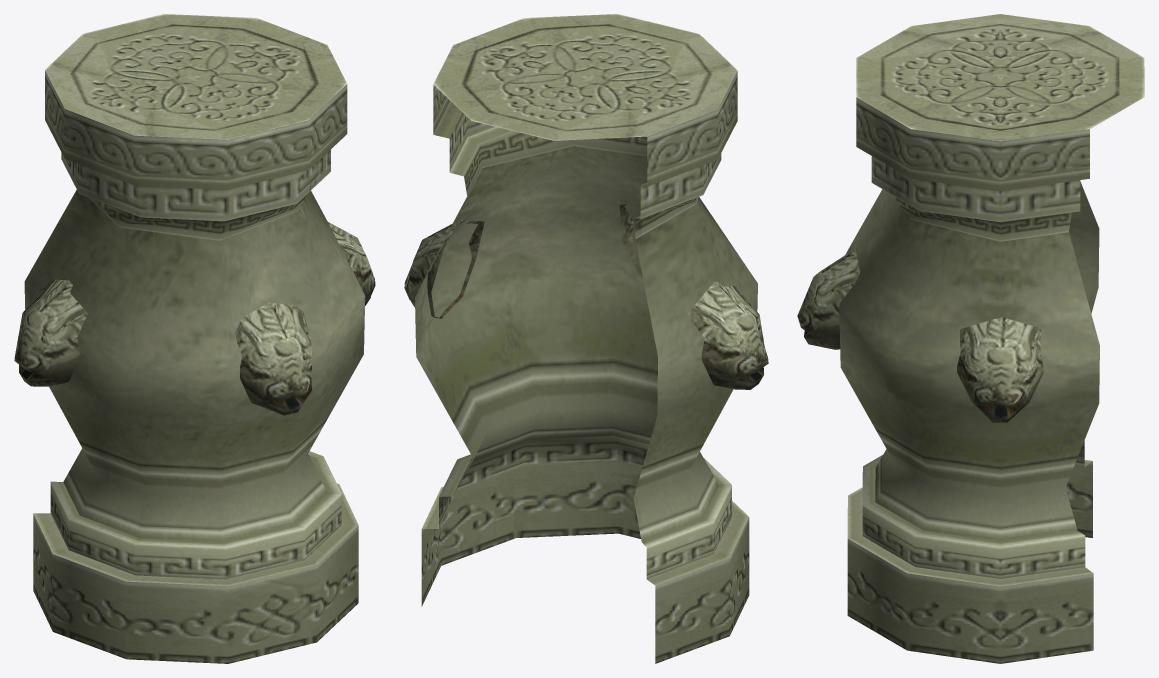
The model's file is xsz_shuizhuzi_1.FBX.
3 views of the same model, side by side, from view 1: azimuth 30°, elevation 25°; view 2: azimuth 150°, elevation 25°; view 3: azimuth 270°, elevation 25° (orthographic).
Visible parts, largest first — view 1: xsz_shuizhuzi_1; view 2: xsz_shuizhuzi_1; view 3: xsz_shuizhuzi_1.
Part boxes in pixels (<box>): xsz_shuizhuzi_1: <box>14,14,375,663</box>; xsz_shuizhuzi_1: <box>404,14,768,663</box>; xsz_shuizhuzi_1: <box>797,14,1144,663</box>.
Bounding box in the file's own units: 197 × 168 × 276.
